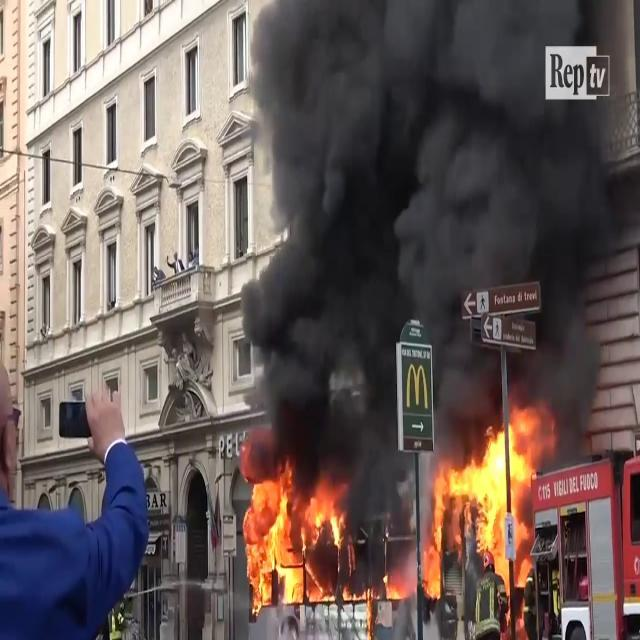Fire: (426, 403, 551, 598), (240, 463, 348, 611)
Smoke: (232, 1, 638, 447)
